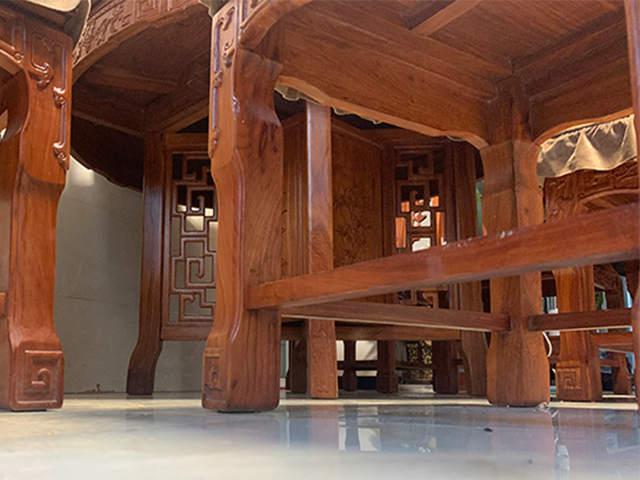stool: (201, 1, 640, 414)
